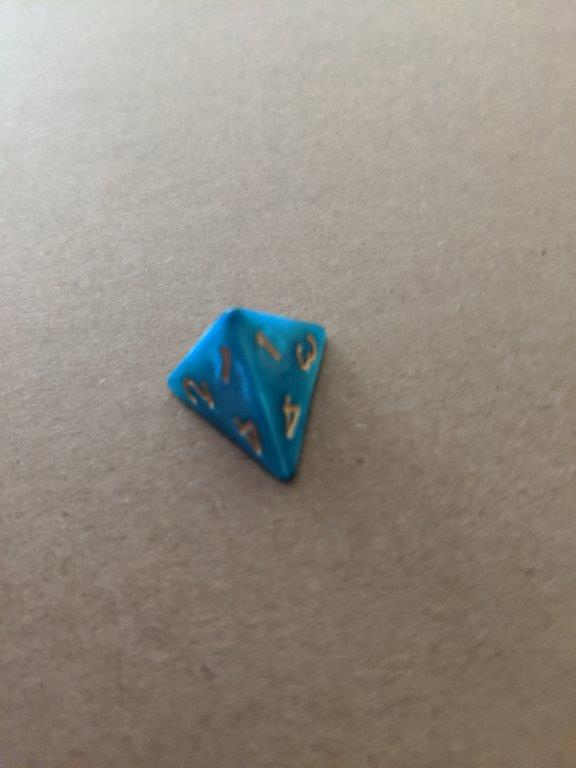d4-1: (162, 304, 331, 486)
